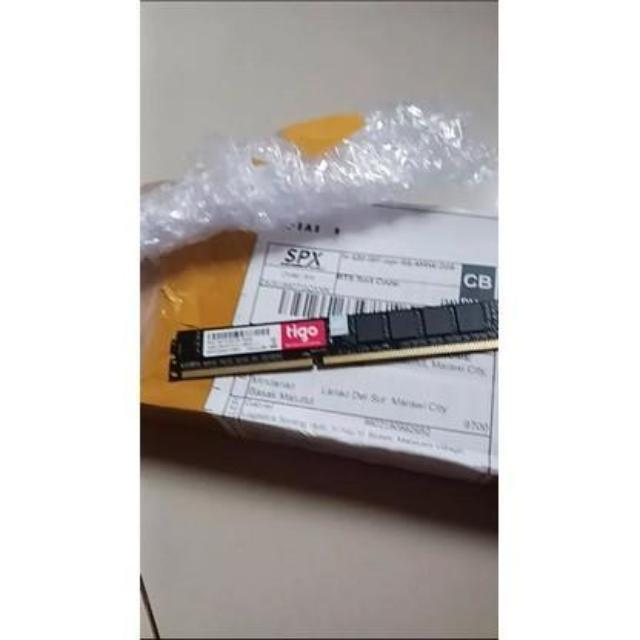RAM: (164, 298, 498, 384)
